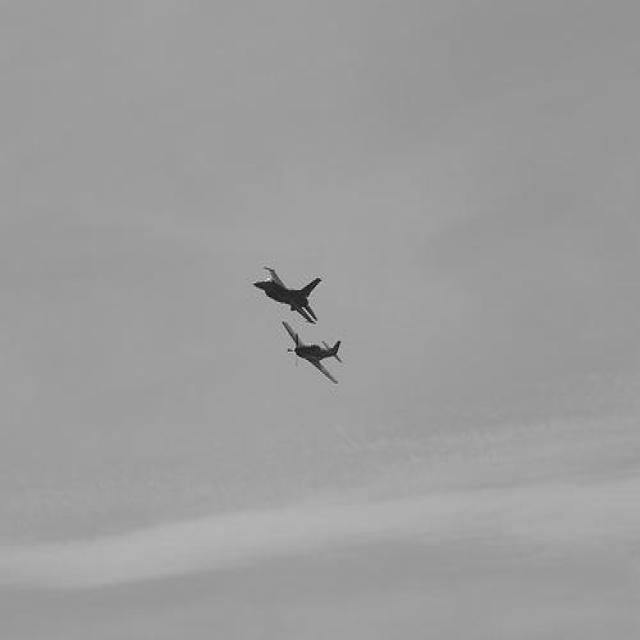aeroplane: (254, 264, 322, 326), (280, 319, 342, 386)
